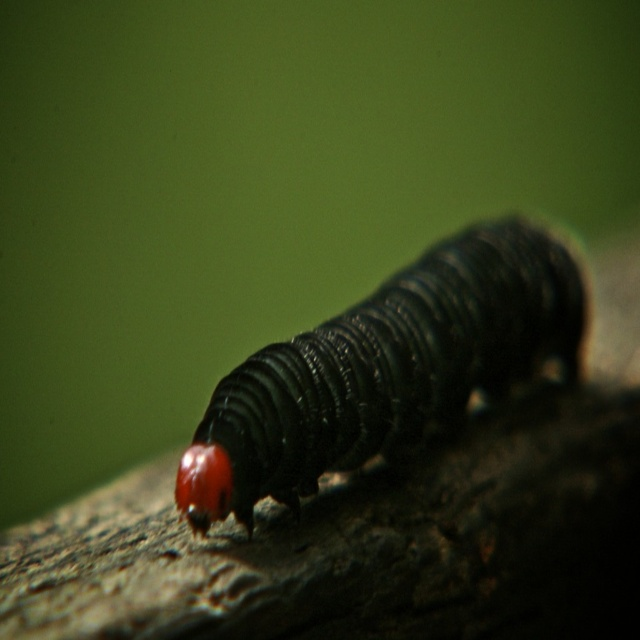Caterpillar: (176, 212, 590, 542)
